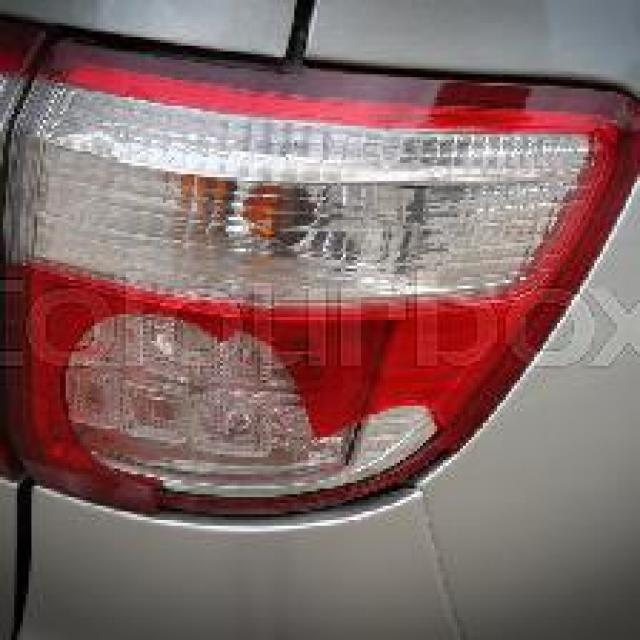damaged: (62, 312, 448, 528)
